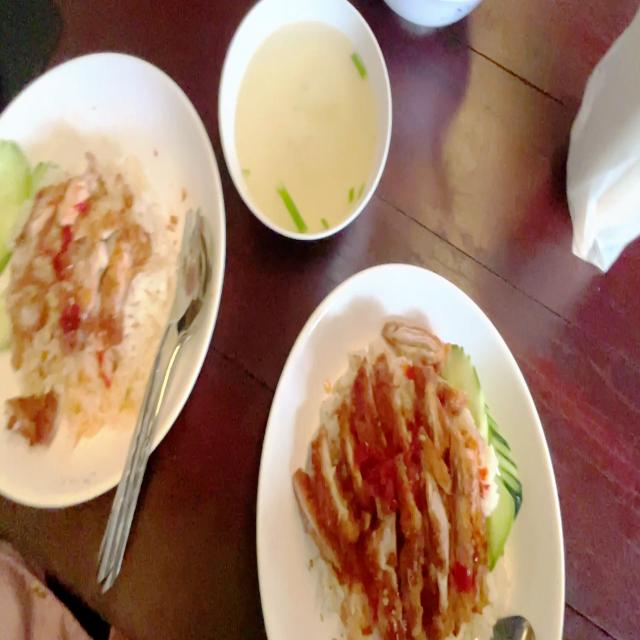chicken_rice: (293, 303, 514, 640), (0, 126, 181, 442)
cucumber: (480, 395, 526, 571), (442, 335, 487, 447), (0, 136, 31, 277), (26, 160, 62, 194), (0, 277, 14, 358)
fried_chicken: (294, 322, 486, 640), (24, 157, 144, 361), (0, 381, 61, 455)
